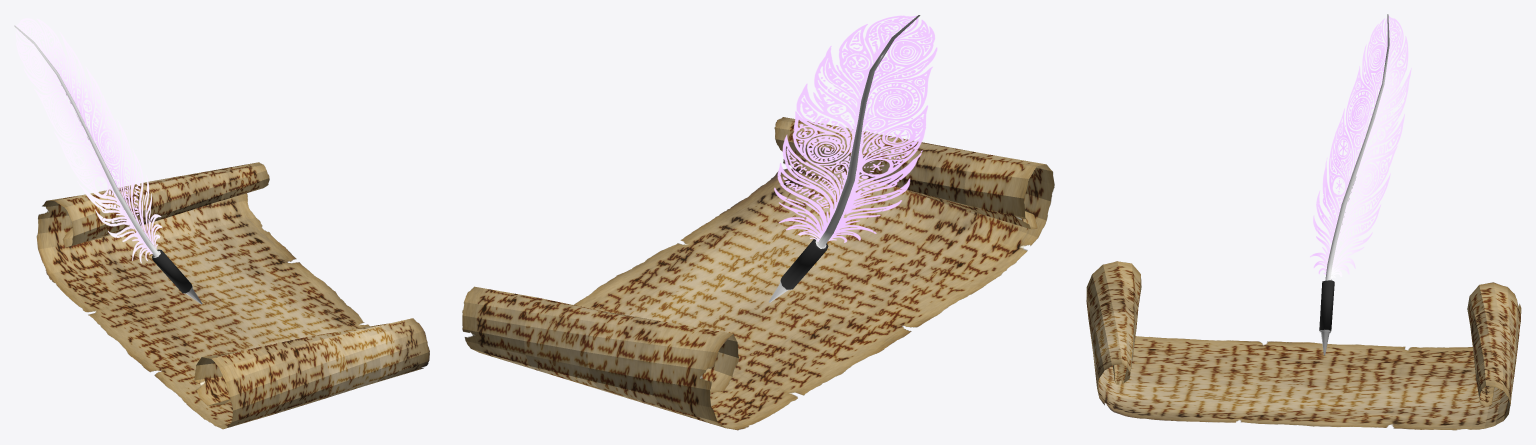
The model's file is scroll and pen.glb.
The picture shows the model from 3 angles, left to right: view 1: azimuth 30°, elevation 25°; view 2: azimuth 150°, elevation 25°; view 3: azimuth 270°, elevation 25°; orthographic projection. The views are drawn at different scales.
Parts seen in each view (by area): view 1: scroll, feather-pen; view 2: scroll, feather-pen; view 3: scroll, feather-pen.
Part boxes in pixels (<box>): scroll: <box>36,162,429,429</box>; feather-pen: <box>14,18,202,304</box>; scroll: <box>462,117,1054,430</box>; feather-pen: <box>769,15,937,302</box>; scroll: <box>1086,261,1521,430</box>; feather-pen: <box>1310,14,1411,355</box>.
Bounding box in the file's own units: 3.01 × 2.92 × 3.88.
4 materials, 2 textured.
